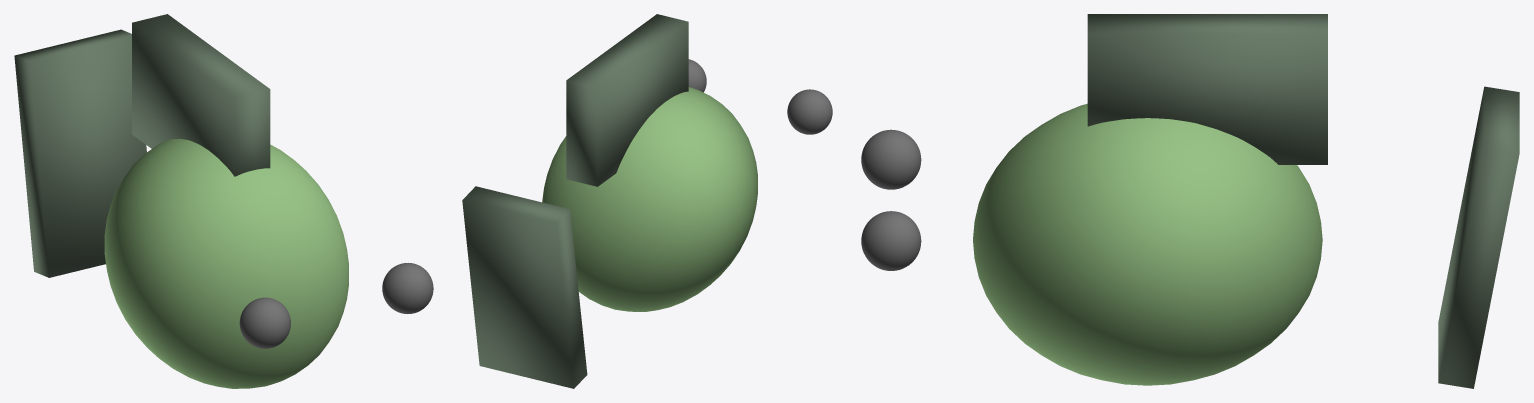
Rendered from fish_bass.glb.
3 views of the same model, side by side, from view 1: azimuth 30°, elevation 25°; view 2: azimuth 150°, elevation 25°; view 3: azimuth 270°, elevation 25° (orthographic). The views are drawn at different scales.
Visible parts, largest first — view 1: body, tail, dorsal, eye-1, eye1; view 2: body, tail, dorsal, eye-1, eye1; view 3: body, dorsal, tail, eye-1, eye1.
Boxes of the visible parts, x1=… form: body: x1=104, y1=138, x2=348, y2=388; tail: x1=14, y1=29, x2=146, y2=277; dorsal: x1=132, y1=14, x2=270, y2=176; eye-1: x1=239, y1=297, x2=290, y2=348; eye1: x1=382, y1=263, x2=433, y2=313; body: x1=542, y1=87, x2=757, y2=311; tail: x1=462, y1=186, x2=587, y2=388; dorsal: x1=566, y1=14, x2=688, y2=186; eye-1: x1=787, y1=89, x2=832, y2=134; eye1: x1=688, y1=59, x2=706, y2=92; body: x1=973, y1=103, x2=1322, y2=385; dorsal: x1=1087, y1=14, x2=1327, y2=164; tail: x1=1438, y1=86, x2=1519, y2=388; eye-1: x1=861, y1=129, x2=921, y2=189; eye1: x1=861, y1=211, x2=921, y2=270.
Bounding box in the file's own units: 0.2184 × 0.3221 × 0.5481.
